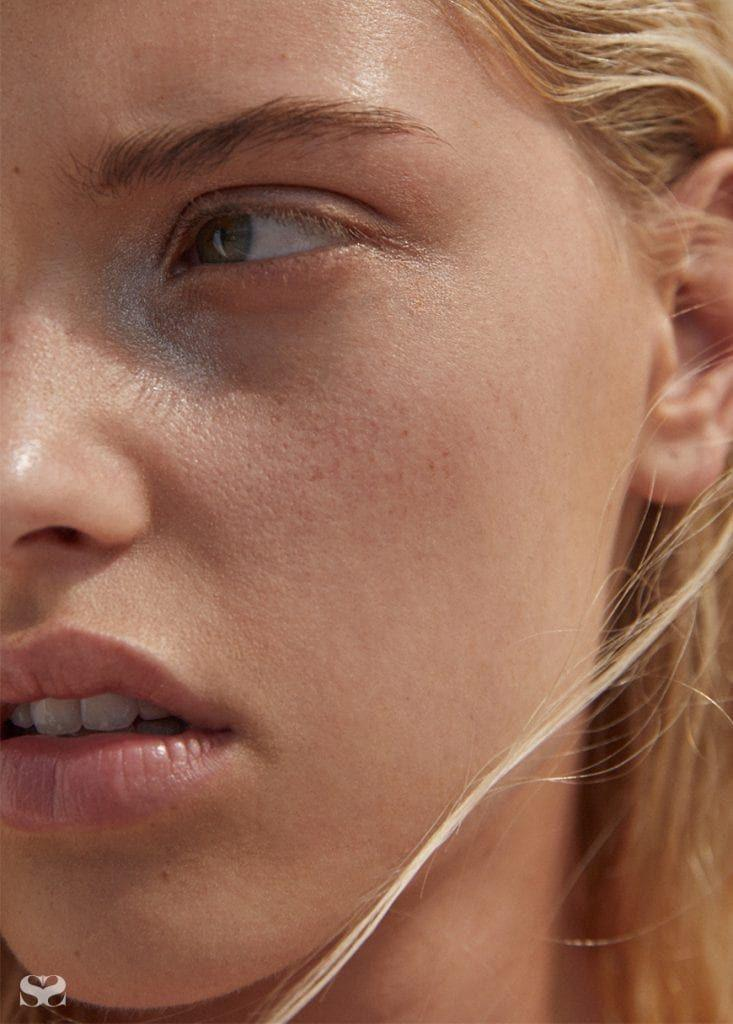Oily-Skin: (0, 221, 218, 571), (238, 8, 461, 106)
